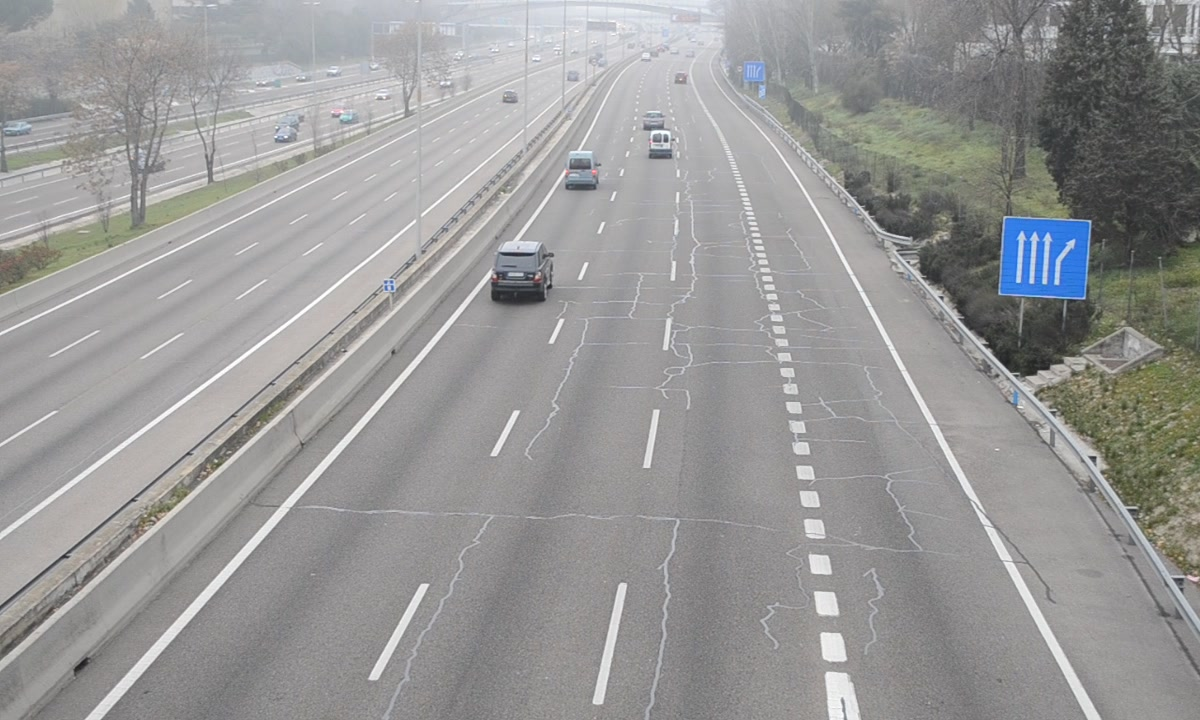car: (490, 241, 551, 299)
van: (565, 151, 600, 189), (648, 127, 674, 161)
